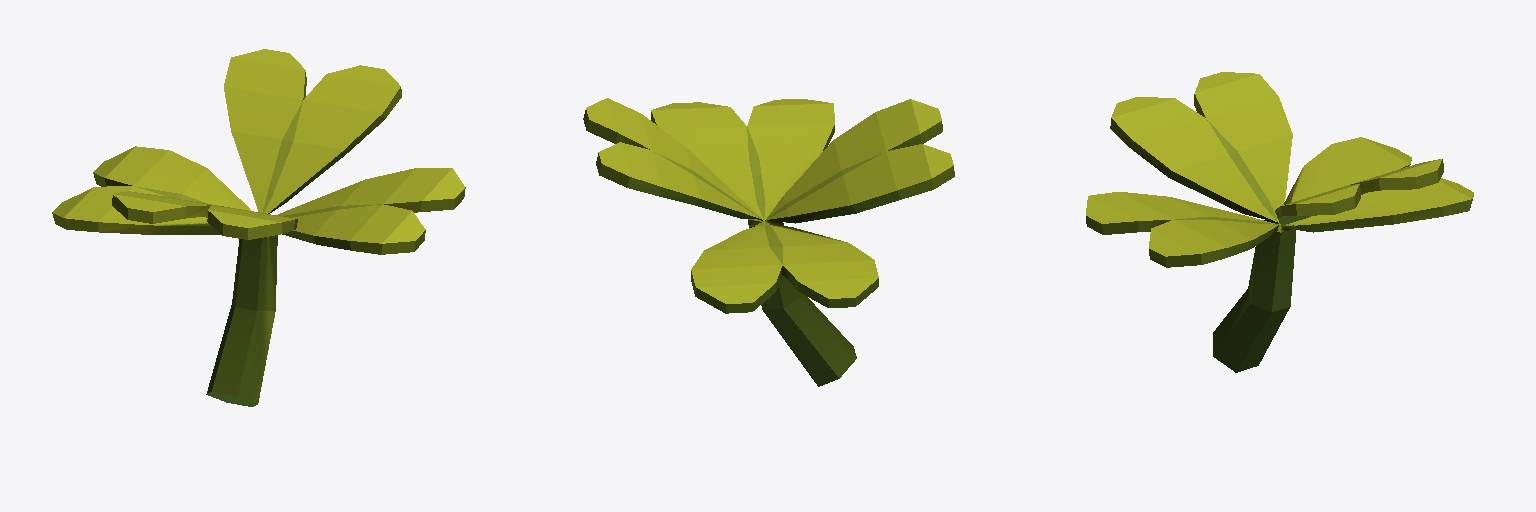
3 views of the same model, side by side, from view 1: azimuth 30°, elevation 25°; view 2: azimuth 150°, elevation 25°; view 3: azimuth 270°, elevation 25° (orthographic).
Visible parts, largest first — view 1: clover; view 2: clover; view 3: clover.
Part boxes in pixels (bbox=[...]): clover: bbox=[52, 49, 465, 406]; clover: bbox=[583, 98, 954, 386]; clover: bbox=[1086, 72, 1473, 372].
Size of the model in its own units: 1.42 by 1.11 by 1.51.
1 materials, 1 textured.